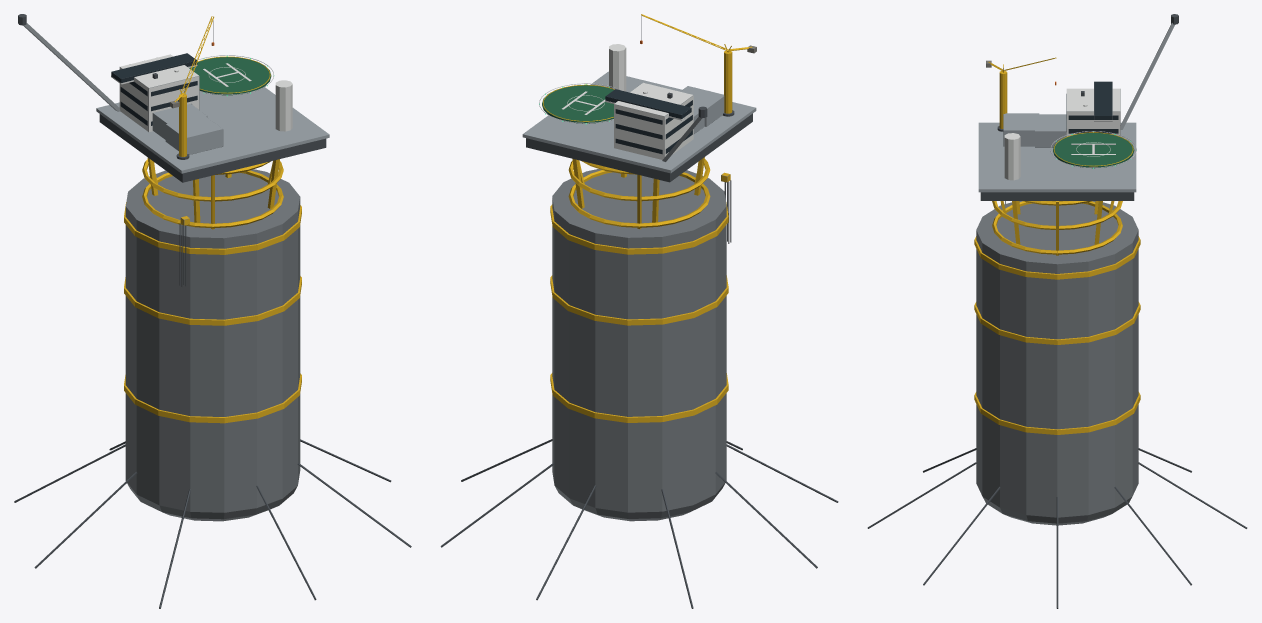
Rendered from off_spar.glb.
The picture shows the model from 3 angles, left to right: view 1: azimuth 30°, elevation 25°; view 2: azimuth 150°, elevation 25°; view 3: azimuth 270°, elevation 25°; orthographic projection. The views are drawn at different scales.
Visible parts, largest first — view 1: off_spar; view 2: off_spar; view 3: off_spar.
Part boxes in pixels (x1,y1,x2,y2): off_spar: (14, 14, 411, 608); off_spar: (440, 14, 838, 608); off_spar: (867, 14, 1247, 608).
Bounding box in the file's own units: 84.23 × 115 × 84.23.
